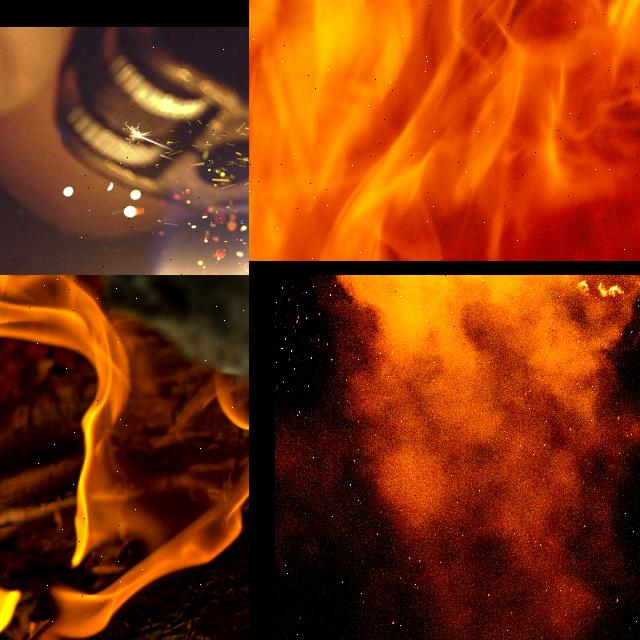fire: (276, 275, 640, 640), (249, 0, 640, 261), (0, 275, 249, 640), (62, 29, 249, 275)
